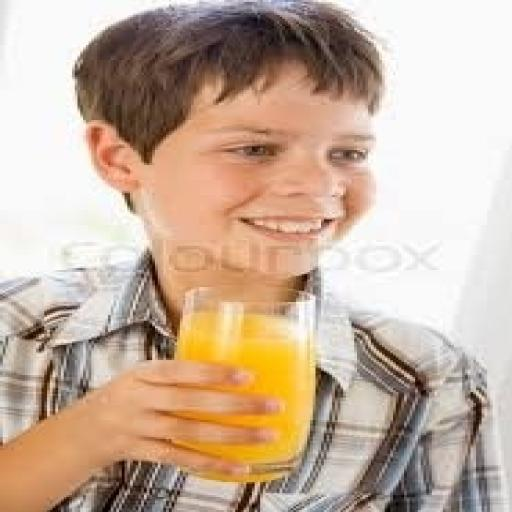drinking: (160, 285, 318, 480)
